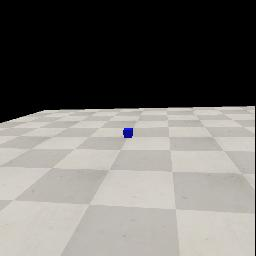box: (123, 128, 133, 138)
